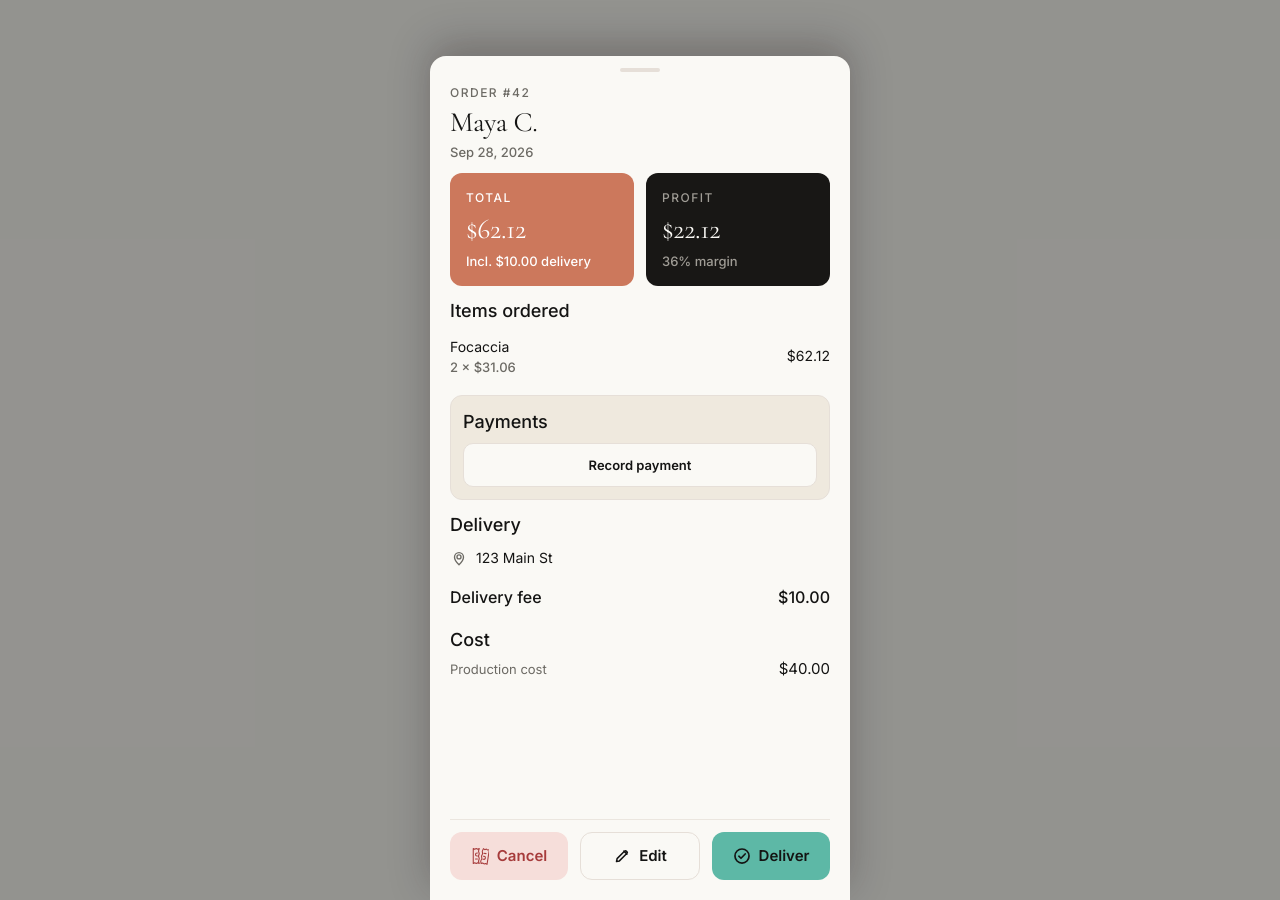
Test case: OrderDetailPage delivery › keeps the button in place and explains a failed transition
The image size is (1280, 900).
Click the button "Deliver": (771,856) [712,832,830,880]
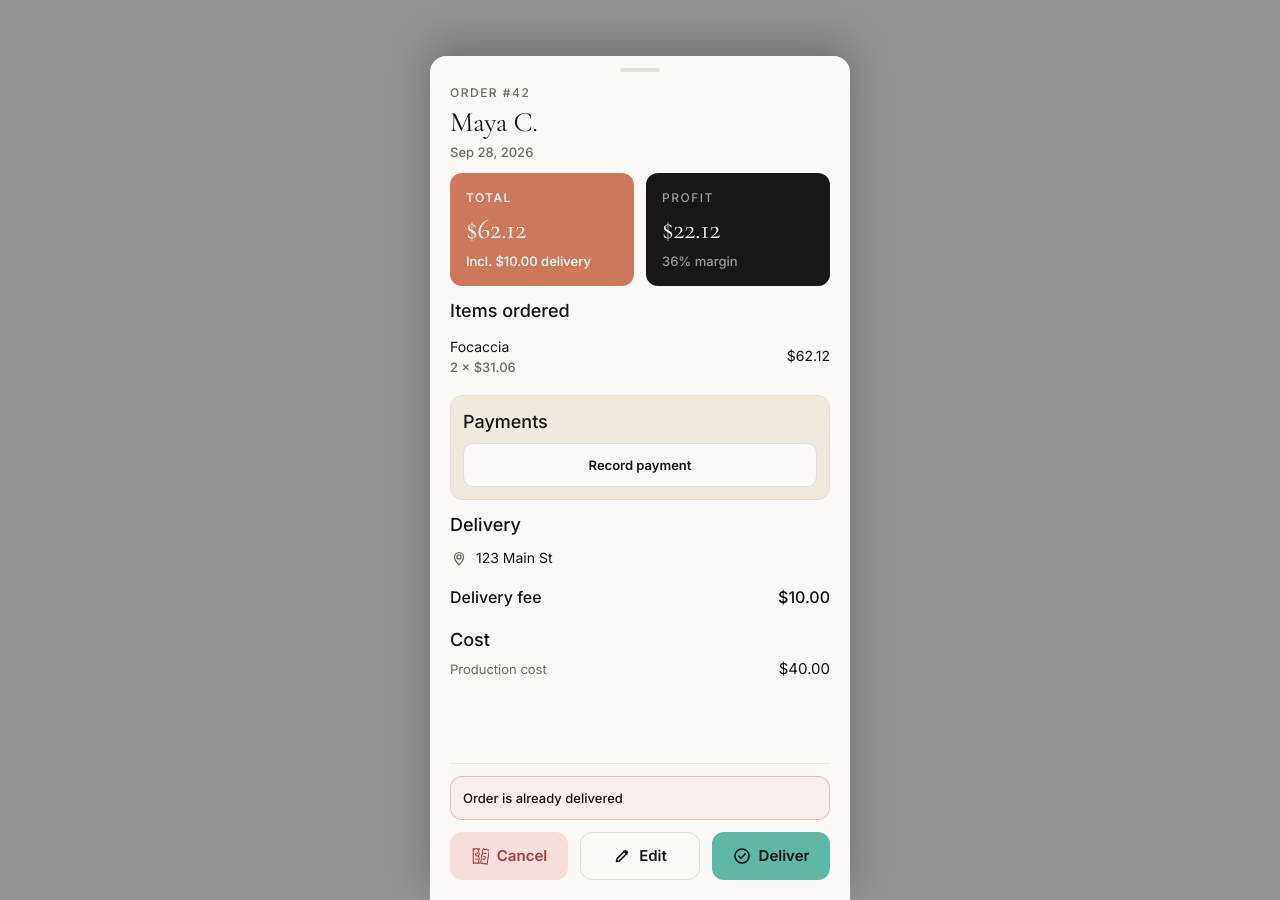
Check: the text "Order is already delivered" is shown, box [450,776,830,820]
